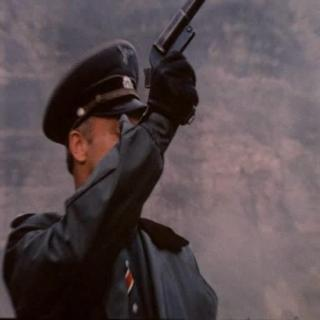gun: (136, 0, 218, 130)
